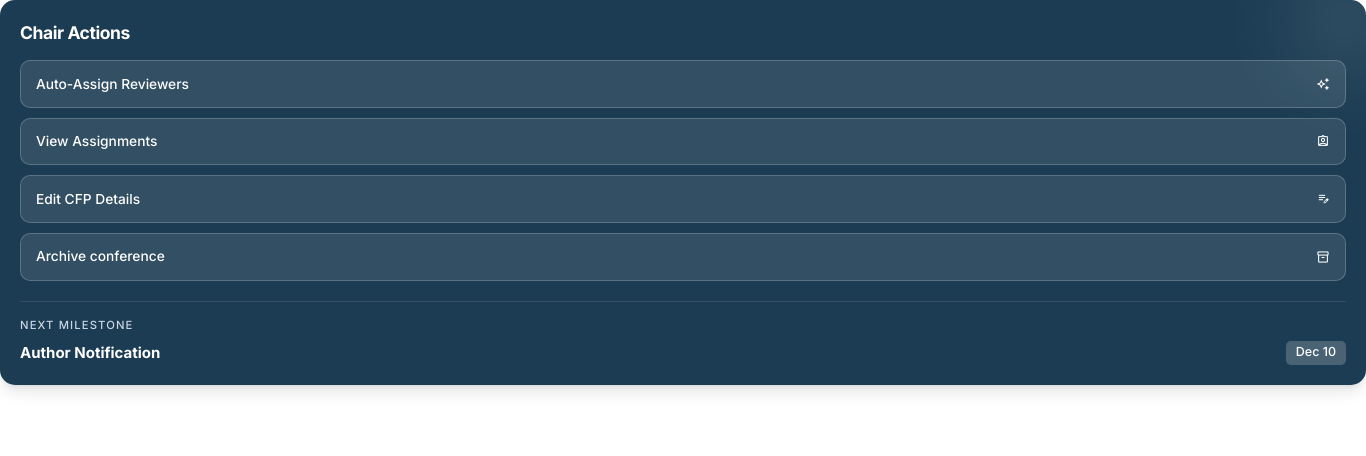
Test case: ChairActionsPanel › should show error message when auto-assign fails
Click the text "Auto-Assign Reviewers".
click(112, 84)  # box [36,74,189,94]
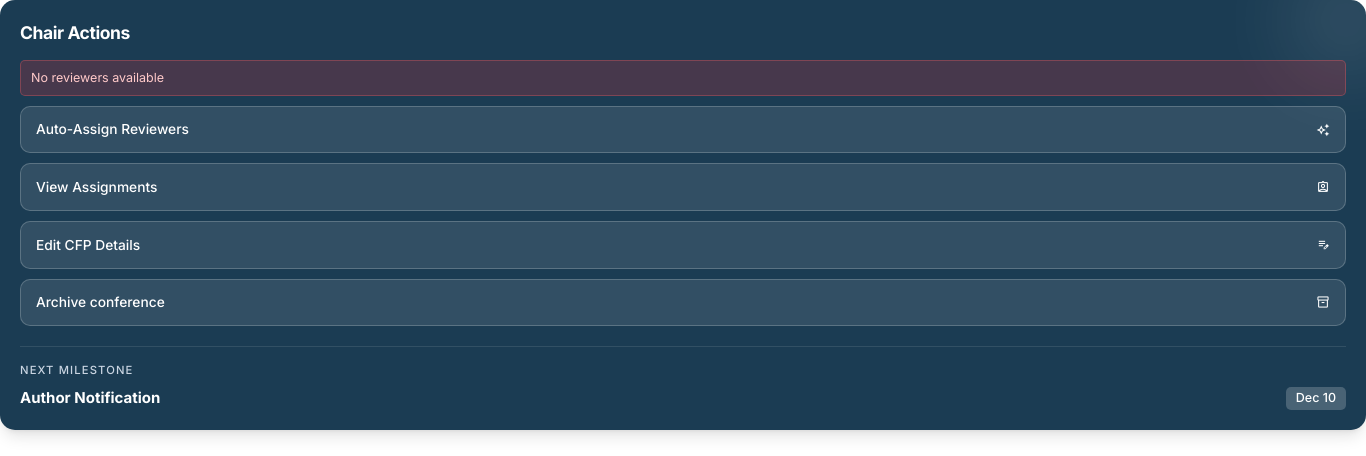
Now the text "No reviewers available" is shown, box [20,60,1346,96]
